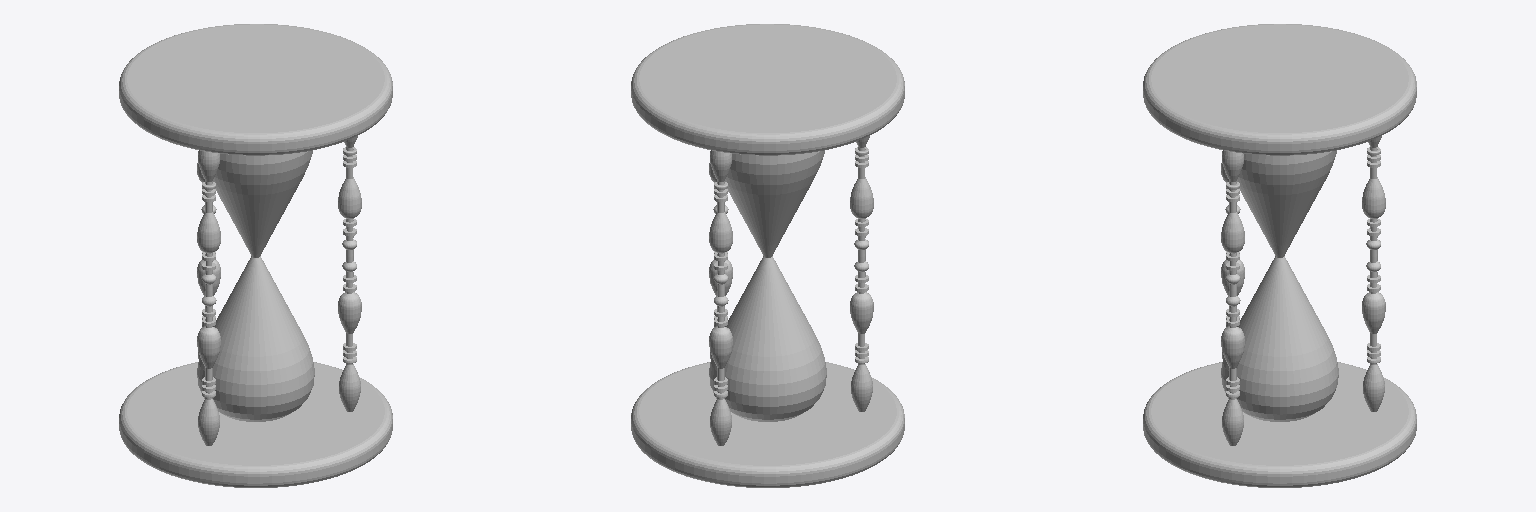
Rendered from Sand_Watch_tri.obj.
3 renders of one model, left to right at view 1: azimuth 30°, elevation 25°; view 2: azimuth 150°, elevation 25°; view 3: azimuth 270°, elevation 25°, orthographic.
Visible parts, largest first — view 1: Top, Bottom, Glass, Stand_Lathe_NURBS_2, Stand_Lathe_NURBS_1; view 2: Top, Bottom, Glass, Stand_Lathe_NURBS_0, Stand_Lathe_NURBS_2; view 3: Top, Bottom, Glass, Stand_Lathe_NURBS_1, Stand_Lathe_NURBS_0.
Boxes of the visible parts, x1,y1,x2,y2 form: Top: [119, 24, 392, 155]; Bottom: [119, 362, 392, 487]; Glass: [197, 150, 314, 421]; Stand_Lathe_NURBS_2: [197, 150, 220, 445]; Stand_Lathe_NURBS_1: [338, 136, 361, 411]; Top: [631, 24, 904, 155]; Bottom: [631, 362, 904, 487]; Glass: [709, 150, 826, 421]; Stand_Lathe_NURBS_0: [709, 150, 732, 445]; Stand_Lathe_NURBS_2: [850, 136, 873, 411]; Top: [1143, 24, 1416, 155]; Bottom: [1143, 362, 1416, 487]; Glass: [1221, 150, 1338, 421]; Stand_Lathe_NURBS_1: [1221, 150, 1244, 445]; Stand_Lathe_NURBS_0: [1362, 136, 1385, 411].
Size of the model in its own units: 800 by 1140 by 799.